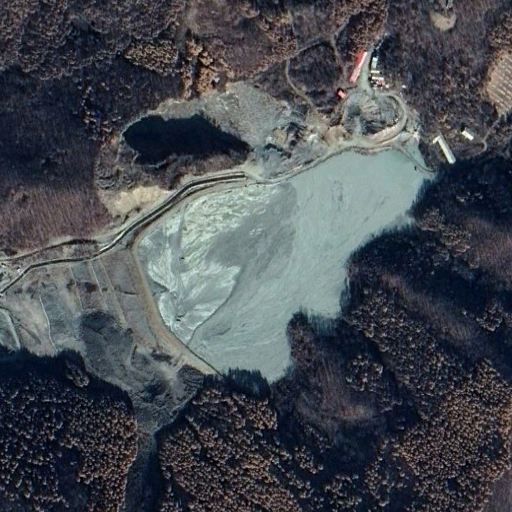tp: (26, 142, 425, 391)
